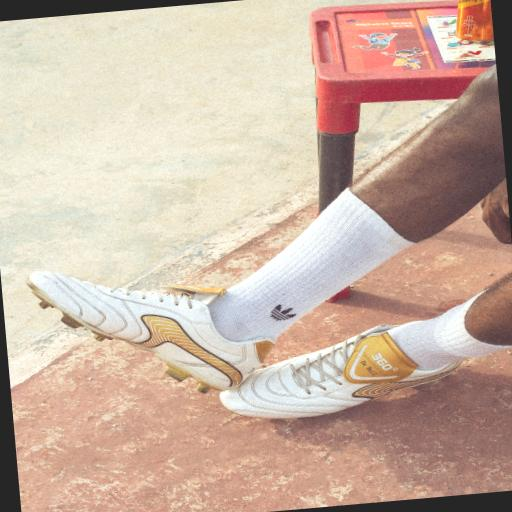shoe: (27, 272, 275, 392), (220, 325, 461, 418)
